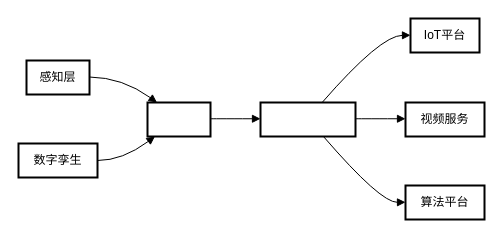
The diagram is 502 pixels wide and 237 high, and some of its shapes have lost their labels. Each missing label, with the box of its shape:
服务路由层: (259, 101, 356, 137)
网络层: (146, 101, 211, 137)
